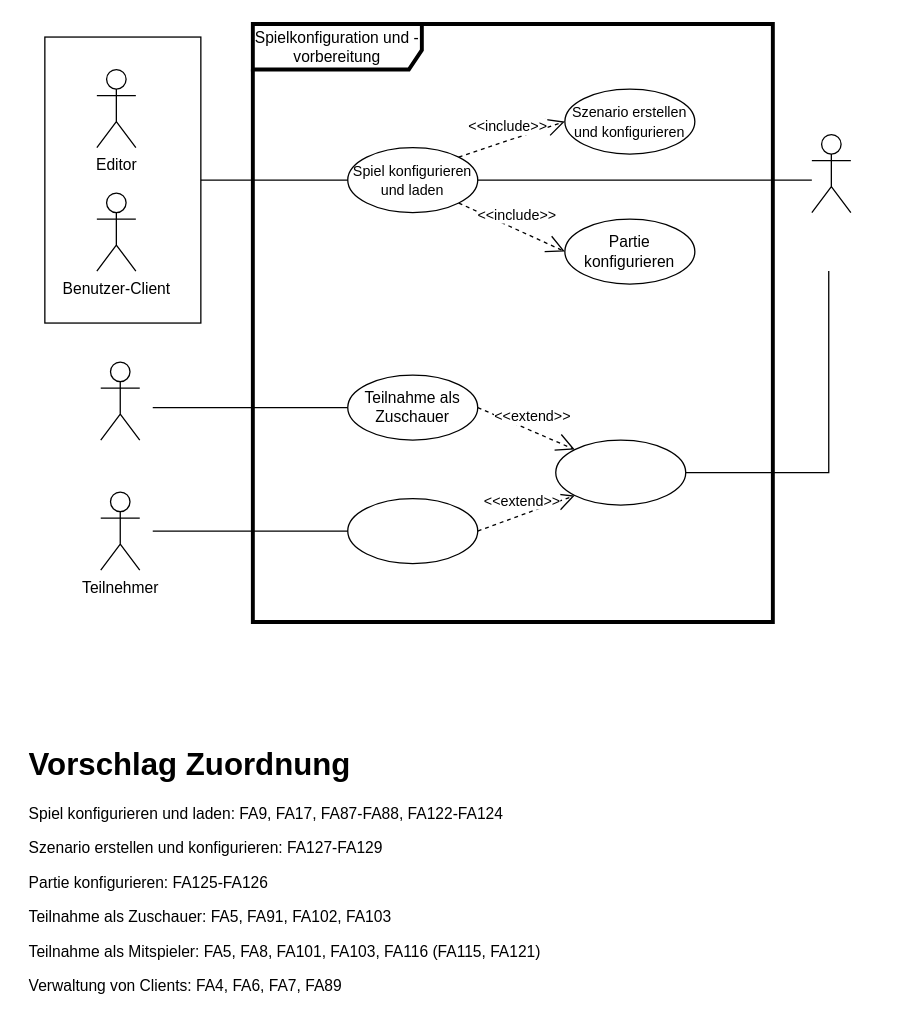
Image size: 915x1022. Some labels were removed from this diagram. The centre of each missing label's shape, as x and y in pixels:
Server: pixel 831 173
Teilnahme als Mitspieler: pixel 412 530
Verwaltung von Clients: pixel 620 472
Zuschauer: pixel 119 400
